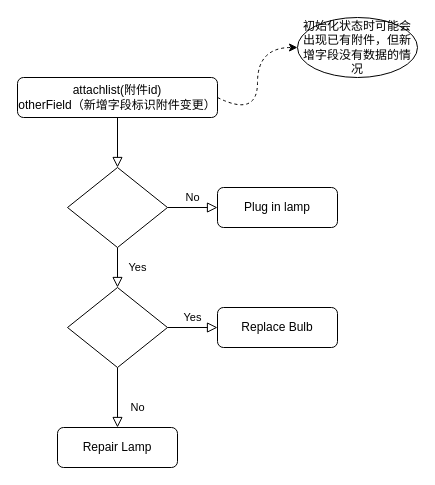
This 435x485 diagram has some shape labels left out. The centre of each missing label's shape, as x and y in pixels:
"Bulb burned out?" goes at (117,327).
"是否有修改" goes at (117,207).
